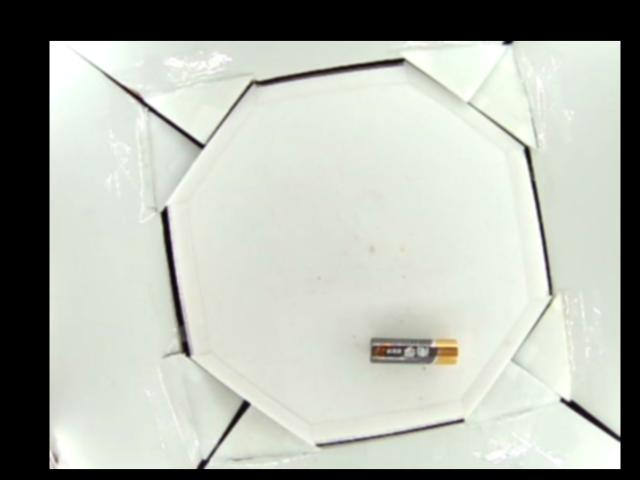Battery: (368, 338, 459, 362)
